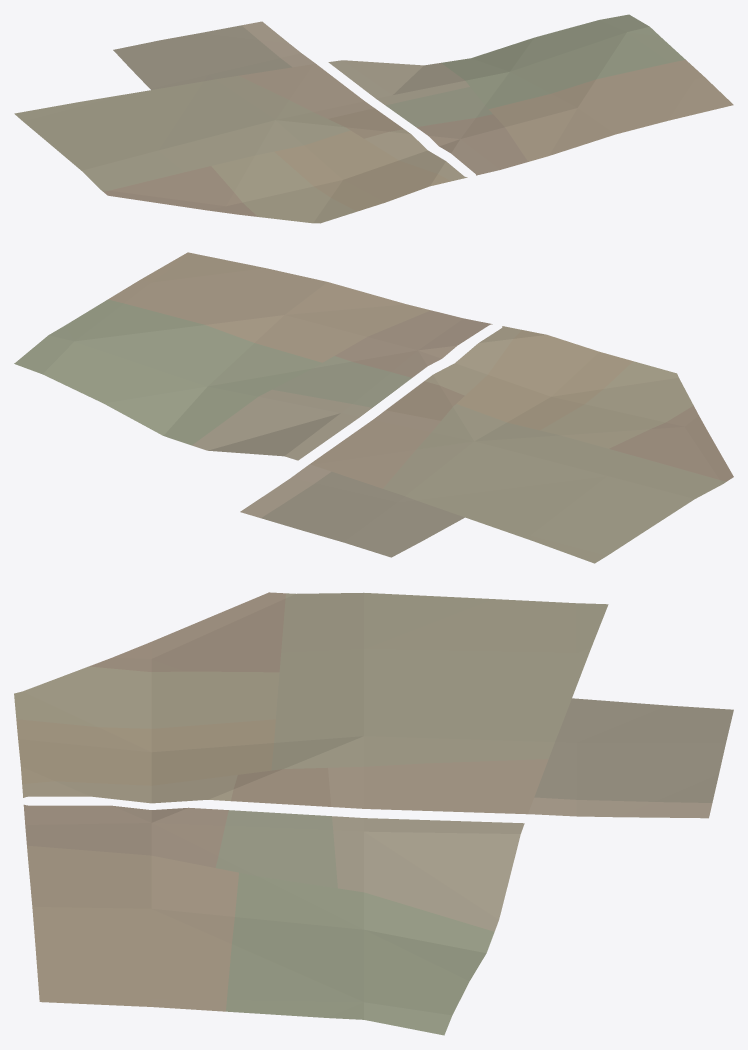
The model's file is farm_11_18_soil.glb.
3 views of the same model, one above another, from view 1: azimuth 30°, elevation 25°; view 2: azimuth 150°, elevation 25°; view 3: azimuth 270°, elevation 25° (orthographic). The views are drawn at different scales.
Parts seen in each view (by area): view 1: geometry_0; view 2: geometry_0; view 3: geometry_0.
Part boxes in pixels (x1,y1,x2,y2): geometry_0: [14, 14, 733, 223]; geometry_0: [14, 252, 733, 563]; geometry_0: [14, 592, 733, 1035].
Size of the model in its own units: 394 by 19.29 by 271.
